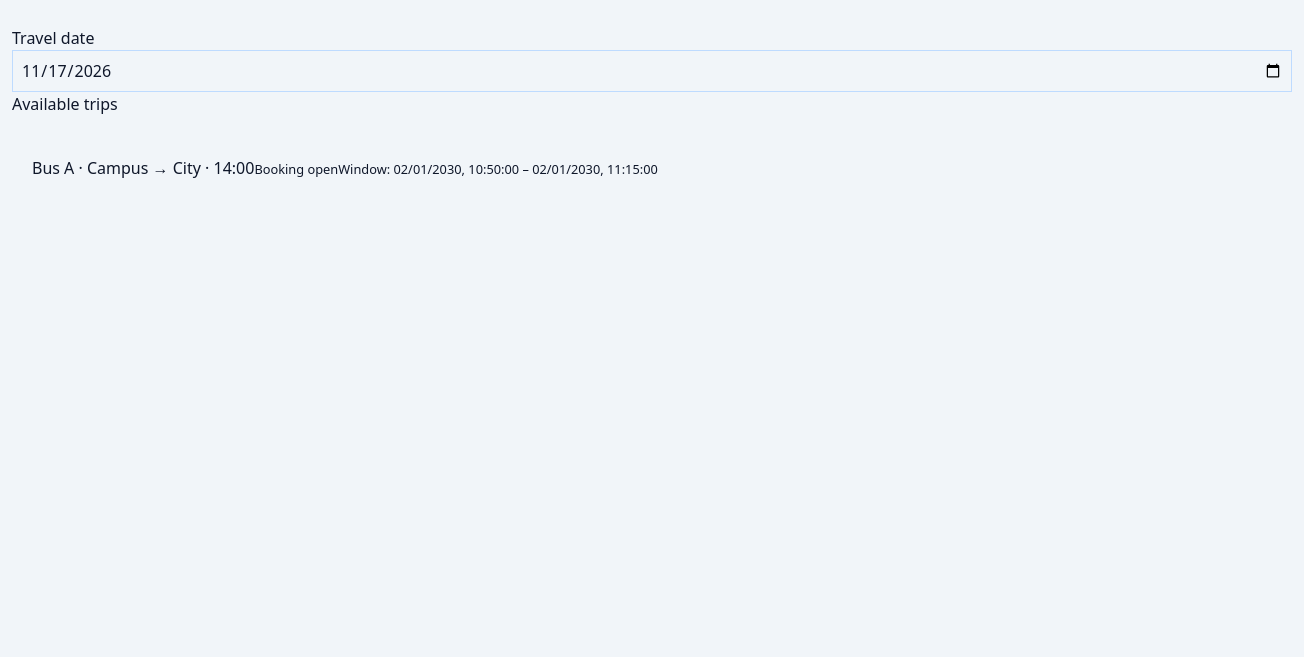
Member 2 student pages › shows booking failure and refreshes seat availability
Click the button "Bus A". click: (652, 169)
box: [12,136,1292,202]
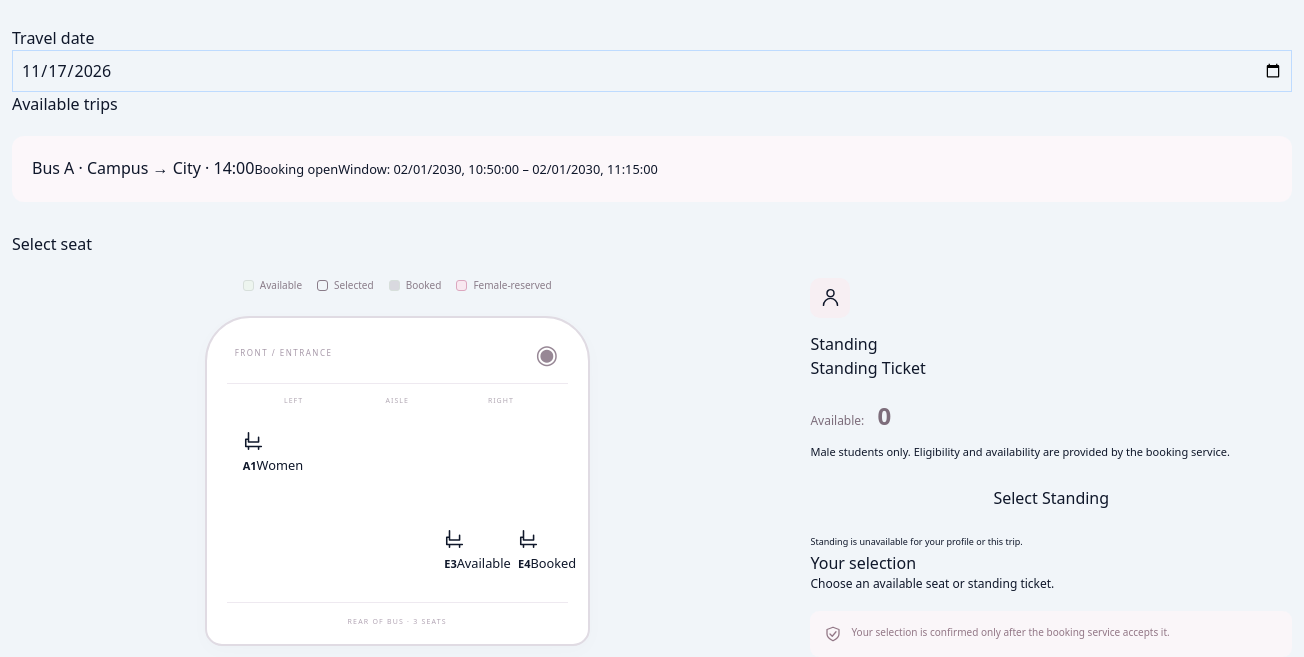
Click the button with aria-label "Seat 19 Available". click: (461, 551)
box: [428,520,494,582]
(page scrolled)
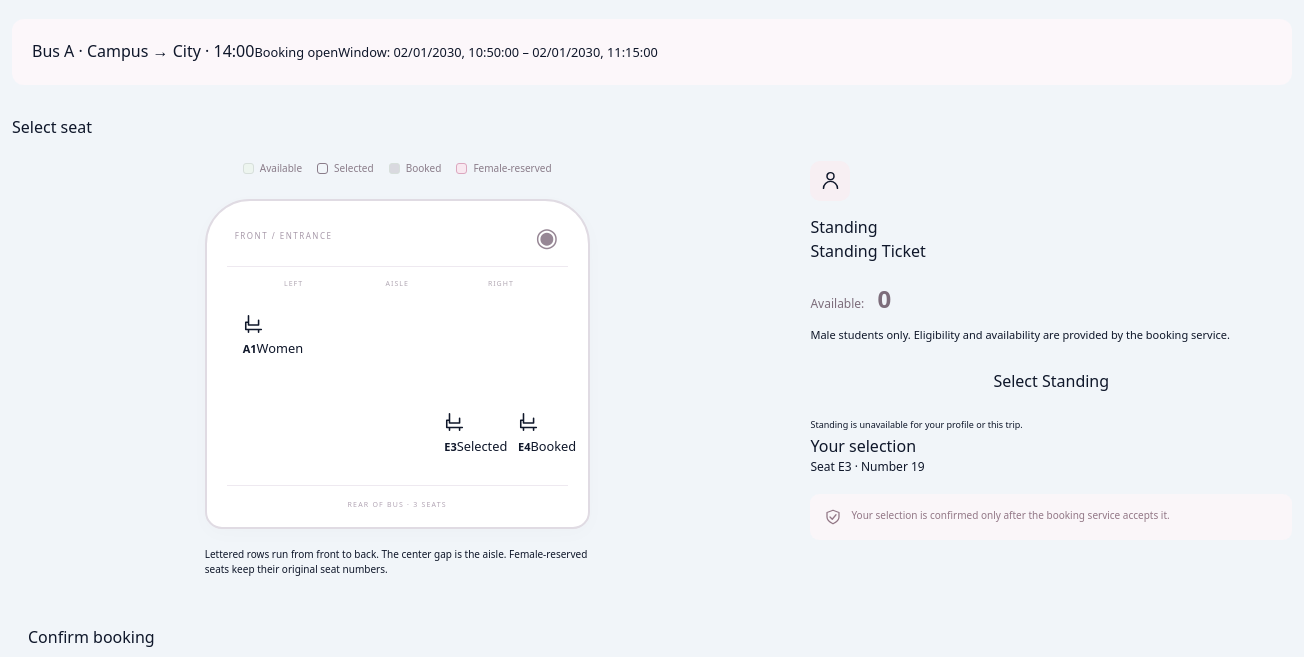
Click the button "Confirm booking". click: (91, 637)
box: [12,617,171,656]
(page scrolled)
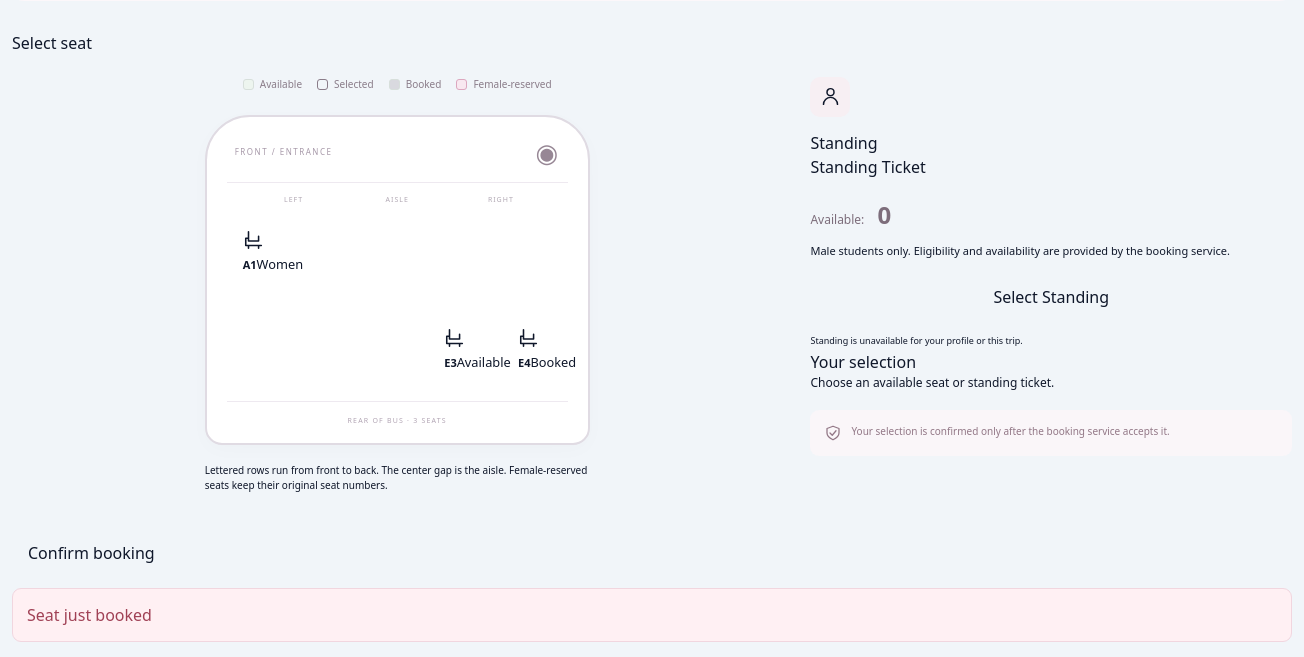
Expected: the message reads "Seat just booked", [27,604,152,626]
